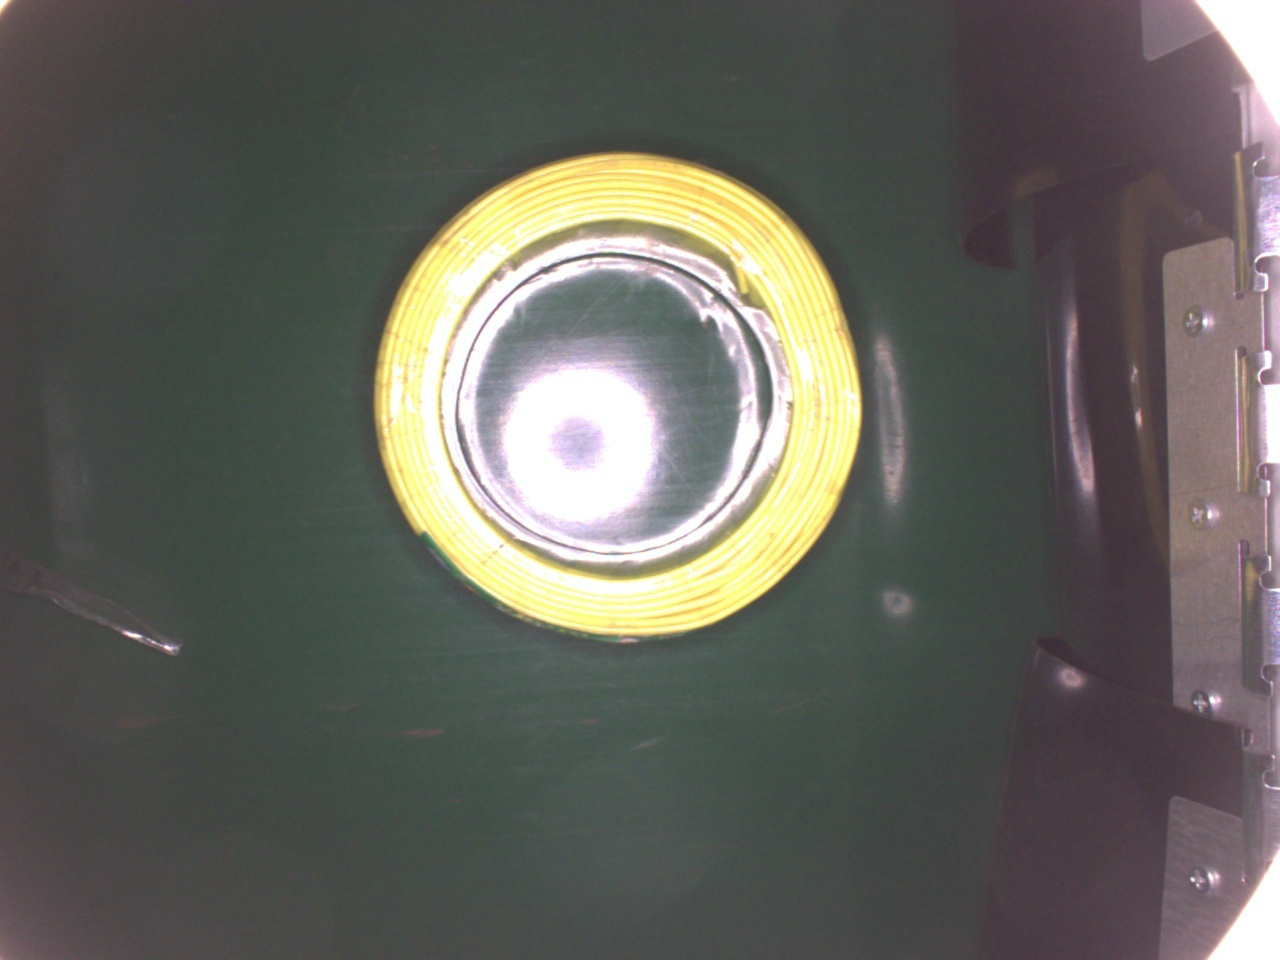yellow: (372, 151, 863, 643)
